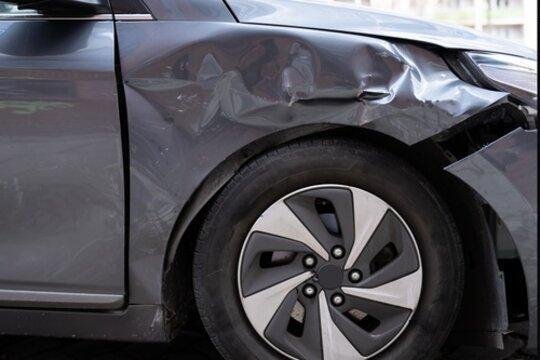dent: (101, 18, 540, 174), (109, 150, 188, 348)
